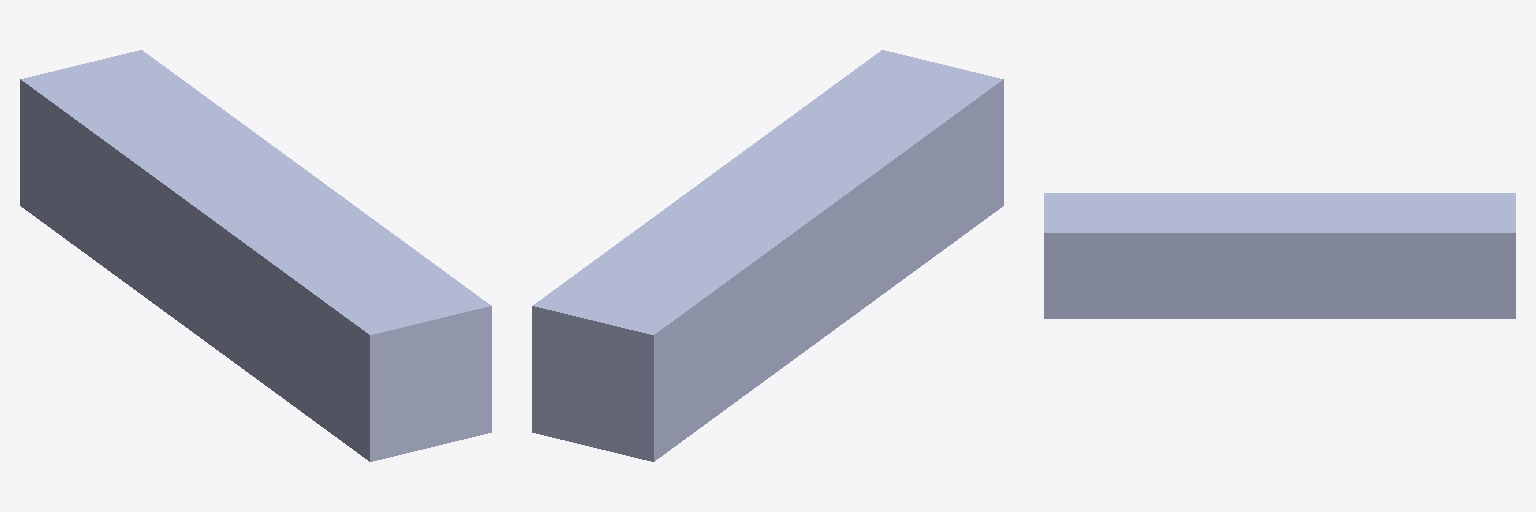
URDF robot description (schunk_gripper_jpg_p_160):
<?xml version="1.0" ?>
<!-- =================================================================================== -->
<!-- |    This document was autogenerated by xacro from [local-path]/projects/personal_ws/src/schunk_gripper_jpg_p_160/schunk_gripper_jpg_p_160_description/urdf/schunk_gripper_jpg_p_160_pybullet.xacro | -->
<!-- |    EDITING THIS FILE BY HAND IS NOT RECOMMENDED                                 | -->
<!-- =================================================================================== -->
<!-- It is required to pass the args: robot_name-->
<robot name="schunk_gripper_jpg_p_160">
  <link concave="yes" name="base">
    <inertial>
      <origin rpy="0 0 0" xyz="0.00002849 -0.00022471 0.03657638"/>
      <mass value="0.6818"/>
      <inertia ixx="0.00154456" ixy="0.00000154" ixz="0.00000118" iyy="0.00283260" iyz="-0.00000405" izz="0.00195998"/>
    </inertial>
    <visual>
      <origin rpy="0 0 0" xyz="0 0 0"/>
      <geometry>
        <mesh filename="[local-path]/projects/personal_ws/src/schunk_gripper_jpg_p_160/schunk_gripper_jpg_p_160_description/meshes/SCHUNK_parallel_gripper_base.STL"/>
      </geometry>
      <material name="">
        <color rgba="0.79216 0.81961 0.93333 1"/>
      </material>
    </visual>
    <collision concave="yes">
      <origin rpy="0 0 0" xyz="0 0 0"/>
      <geometry>
        <mesh filename="[local-path]/projects/personal_ws/src/schunk_gripper_jpg_p_160/schunk_gripper_jpg_p_160_description/meshes/SCHUNK_parallel_gripper_base.STL"/>
      </geometry>
    </collision>
  </link>
  <joint name="left_joint" type="prismatic">
    <origin rpy="0 0 0" xyz="0.0006 0 0.0481"/>
    <parent link="base"/>
    <child link="left_slider"/>
    <axis xyz="1 0 0"/>
    <limit effort="1000" lower="0.000" upper="0.017" velocity="1000000"/>
  </joint>
  <link concave="yes" name="left_slider">
    <inertial>
      <origin rpy="0 0 0" xyz="0.03936113 -0.00000000 0.01237203"/>
      <mass value="0.070"/>
      <inertia ixx="0.00002269" ixy="0.00000000" ixz="0.00003426" iyy="0.00015861" iyz="-0.00000000" izz="0.00015142"/>
    </inertial>
    <visual>
      <origin rpy="0 0 0" xyz="0 0 0"/>
      <geometry>
        <mesh filename="[local-path]/projects/personal_ws/src/schunk_gripper_jpg_p_160/schunk_gripper_jpg_p_160_description/meshes/SCHUNK_parallel_gripper_finger_slider.STL"/>
      </geometry>
      <material name="">
        <color rgba="0.79216 0.81961 0.93333 1"/>
      </material>
    </visual>
    <collision concave="yes">
      <origin rpy="0 0 0" xyz="0 0 0"/>
      <geometry>
        <mesh filename="[local-path]/projects/personal_ws/src/schunk_gripper_jpg_p_160/schunk_gripper_jpg_p_160_description/meshes/SCHUNK_parallel_gripper_finger_slider.STL"/>
      </geometry>
    </collision>
  </link>
  <joint name="right_joint" type="prismatic">
    <origin rpy="0 0 3.14159" xyz="-0.0006 0 0.0481"/>
    <parent link="base"/>
    <child link="right_slider"/>
    <axis xyz="1 0 0"/>
    <limit effort="100000" lower="0.000" upper="0.017" velocity="1000000"/>
    <mimic joint="left_joint" multiplier="1" offset="0"/>
  </joint>
  <link concave="yes" name="right_slider">
    <inertial>
      <origin rpy="0 0 0" xyz="0.03936113 -0.00000000 0.01237203"/>
      <mass value="0.070"/>
      <inertia ixx="0.00002269" ixy="0.00000000" ixz="0.00003426" iyy="0.00015861" iyz="-0.00000000" izz="0.00015142"/>
    </inertial>
    <visual>
      <origin rpy="0 0 0" xyz="0 0 0"/>
      <geometry>
        <mesh filename="[local-path]/projects/personal_ws/src/schunk_gripper_jpg_p_160/schunk_gripper_jpg_p_160_description/meshes/SCHUNK_parallel_gripper_finger_slider.STL"/>
      </geometry>
      <material name="">
        <color rgba="0.79216 0.81961 0.93333 1"/>
      </material>
    </visual>
    <collision concave="yes">
      <origin rpy="0 0 0" xyz="0 0 0"/>
      <geometry>
        <mesh filename="[local-path]/projects/personal_ws/src/schunk_gripper_jpg_p_160/schunk_gripper_jpg_p_160_description/meshes/SCHUNK_parallel_gripper_finger_slider.STL"/>
      </geometry>
    </collision>
  </link>
  <joint name="left_finger_joint" type="fixed">
    <origin rpy="0 0 3.14159" xyz="0.0285 0 0.0289"/>
    <parent link="left_slider"/>
    <child link="left_finger"/>
    <axis xyz="0 0 0"/>
  </joint>
  <link concave="yes" name="left_finger">
    <inertial>
      <origin rpy="0 0 0" xyz="-0.01665438 -0.00000438 0.05348249"/>
      <mass value="0.10"/>
      <inertia ixx="0.00041666" ixy="-0.00000001" ixz="-0.00005970" iyy="0.00047996" iyz="-0.00000004" izz="0.00007666"/>
    </inertial>
    <visual>
      <origin rpy="0 0 0" xyz="0 0 0"/>
      <geometry>
        <mesh filename="[local-path]/projects/personal_ws/src/schunk_gripper_jpg_p_160/schunk_gripper_jpg_p_160_description/meshes/Finger.STL"/>
      </geometry>
      <material name="">
        <color rgba="0.79216 0.81961 0.93333 1"/>
      </material>
    </visual>
    <collision concave="yes">
      <origin rpy="0 0 0" xyz="0 0 0"/>
      <geometry>
        <mesh filename="[local-path]/projects/personal_ws/src/schunk_gripper_jpg_p_160/schunk_gripper_jpg_p_160_description/meshes/Finger.STL"/>
      </geometry>
    </collision>
  </link>
  <joint name="right_finger_joint" type="fixed">
    <origin rpy="0 0 3.14159" xyz="0.0285 0 0.0289"/>
    <parent link="right_slider"/>
    <child link="right_finger"/>
    <axis xyz="0 0 0"/>
  </joint>
  <link concave="yes" name="right_finger">
    <inertial>
      <origin rpy="0 0 0" xyz="-0.01665438 -0.00000438 0.05348249"/>
      <mass value="0.10"/>
      <inertia ixx="0.00041666" ixy="-0.00000001" ixz="-0.00005970" iyy="0.00047996" iyz="-0.00000004" izz="0.00007666"/>
    </inertial>
    <visual>
      <origin rpy="0 0 0" xyz="0 0 0"/>
      <geometry>
        <mesh filename="[local-path]/projects/personal_ws/src/schunk_gripper_jpg_p_160/schunk_gripper_jpg_p_160_description/meshes/Finger.STL"/>
      </geometry>
      <material name="">
        <color rgba="0.79216 0.81961 0.93333 1"/>
      </material>
    </visual>
    <collision concave="yes">
      <origin rpy="0 0 0" xyz="0 0 0"/>
      <geometry>
        <mesh filename="[local-path]/projects/personal_ws/src/schunk_gripper_jpg_p_160/schunk_gripper_jpg_p_160_description/meshes/Finger.STL"/>
      </geometry>
    </collision>
  </link>
  <transmission name="left_joint_trans">
    <type>transmission_interface/SimpleTransmission</type>
    <joint name="left_joint_circle">
      <hardwareInterface>hardware_interface/EffortJointInterface</hardwareInterface>
    </joint>
    <actuator name="left_joint_motor">
      <mechanicalReduction>1</mechanicalReduction>
    </actuator>
  </transmission>
  <transmission name="right_joint_trans">
    <type>transmission_interface/SimpleTransmission</type>
    <joint name="right_joint_circle">
      <hardwareInterface>hardware_interface/EffortJointInterface</hardwareInterface>
    </joint>
    <actuator name="right_joint_motor">
      <mechanicalReduction>1</mechanicalReduction>
    </actuator>
  </transmission>
  <joint name="left_joint_circle" type="revolute">
    <origin rpy="0 0.0 0" xyz="0.0 0.0 0.0"/>
    <parent link="base"/>
    <child link="left_circle"/>
    <axis xyz="0 1 0"/>
    <limit effort="10000" lower="-100" upper="100" velocity="1000"/>
  </joint>
  <link name="left_circle">
    <inertial>
      <origin rpy="0 0 0" xyz="0.0 -0.0 0.0"/>
      <mass value="0.0001"/>
      <inertia ixx="0.000001" ixy="0.0" ixz="0.0" iyy="0.000001" iyz="-0.0" izz="0.000001"/>
    </inertial>
  </link>
  <joint name="right_joint_circle" type="revolute">
    <origin rpy="0 0.0 0" xyz="0.0 0.0 0.0"/>
    <parent link="base"/>
    <child link="right_circle"/>
    <axis xyz="0 1 0"/>
    <limit effort="10000" lower="-100" upper="100" velocity="1000"/>
  </joint>
  <link name="right_circle">
    <inertial>
      <origin rpy="0 0 0" xyz="0.0 -0.0 0.0"/>
      <mass value="0.0001"/>
      <inertia ixx="0.000001" ixy="0.0" ixz="0.0" iyy="0.000001" iyz="-0.0" izz="0.000001"/>
    </inertial>
  </link>
  <joint name="middle_left_joint_circle" type="prismatic">
    <origin rpy="0 0 0" xyz="0 0 0"/>
    <parent link="left_circle"/>
    <child link="middle_left_circle"/>
    <axis xyz="0 0 1"/>
    <limit effort="10000" lower="-1" upper="1" velocity="1000"/>
  </joint>
  <link name="middle_left_circle">
    <inertial>
      <origin rpy="0 0 0" xyz="0.0 -0.0 0.0"/>
      <mass value="0.0001"/>
      <inertia ixx="0.000001" ixy="0.0" ixz="0.0" iyy="0.000001" iyz="-0.0" izz="0.000001"/>
    </inertial>
  </link>
  <joint name="end_left_joint_circle" type="revolute">
    <origin rpy="0 0 0" xyz="0.0 0.0 0.0"/>
    <parent link="middle_left_circle"/>
    <child link="end_left_circle"/>
    <axis xyz="0 1 0"/>
    <limit effort="1000" lower="-200" upper="200" velocity="1000"/>
  </joint>
  <link name="end_left_circle">
    <inertial>
      <origin rpy="0 0 0" xyz="0.0 -0.0 0.0"/>
      <mass value="0.0001"/>
      <inertia ixx="0.000001" ixy="0.0" ixz="0.0" iyy="0.000001" iyz="-0.0" izz="0.000001"/>
    </inertial>
    <visual>
      <origin rpy="0 0 0" xyz="0 0 0"/>
      <geometry>
        <box size="0.01 0.05 0.01"/>
      </geometry>
      <material name="">
        <color rgba="0.79216 0.81961 0.93333 1"/>
      </material>
    </visual>
  </link>
  <joint name="middle_right_joint_circle" type="prismatic">
    <origin rpy="0 0 0" xyz="0 0 0"/>
    <parent link="right_circle"/>
    <child link="middle_right_circle"/>
    <axis xyz="0 0 1"/>
    <limit effort="10000" lower="-1" upper="1" velocity="1000"/>
  </joint>
  <link name="middle_right_circle">
    <inertial>
      <origin rpy="0 0 0" xyz="0.0 -0.0 0.0"/>
      <mass value="0.0001"/>
      <inertia ixx="0.000001" ixy="0.0" ixz="0.0" iyy="0.000001" iyz="-0.0" izz="0.000001"/>
    </inertial>
  </link>
  <joint name="end_right_joint_circle" type="revolute">
    <origin rpy="0 0 0" xyz="0.0 0.0 0.0"/>
    <parent link="middle_right_circle"/>
    <child link="end_right_circle"/>
    <axis xyz="0 1 0"/>
    <limit effort="1000" lower="-200" upper="200" velocity="1000"/>
  </joint>
  <link name="end_right_circle">
    <inertial>
      <origin rpy="0 0 0" xyz="0.0 -0.0 0.0"/>
      <mass value="0.0001"/>
      <inertia ixx="0.000001" ixy="0.0" ixz="0.0" iyy="0.000001" iyz="-0.0" izz="0.000001"/>
    </inertial>
    <visual>
      <origin rpy="0 0 0" xyz="0 0 0"/>
      <geometry>
        <box size="0.01 0.05 0.01"/>
      </geometry>
      <material name="">
        <color rgba="0.79216 0.81961 0.93333 1"/>
      </material>
    </visual>
  </link>
  <joint name="shadow_left_joint" type="fixed">
    <origin rpy="0 0 0" xyz="0 0 0"/>
    <parent link="left_slider"/>
    <child link="shadow_left_slider"/>
  </joint>
  <link name="shadow_left_slider">
    <inertial>
      <origin rpy="0 0 0" xyz="0 0 0"/>
      <mass value="0.00001"/>
      <inertia ixx="0.00001" ixy="0.0" ixz="0.0" iyy="0.00001" iyz="0.0" izz="0.00001"/>
    </inertial>
  </link>
  <joint name="shadow_right_joint" type="fixed">
    <origin rpy="0 0 0" xyz="0 0 0"/>
    <parent link="right_slider"/>
    <child link="shadow_right_slider"/>
  </joint>
  <link name="shadow_right_slider">
    <inertial>
      <origin rpy="0 0 0" xyz="0 0 0"/>
      <mass value="0.00001"/>
      <inertia ixx="0.00001" ixy="0.0" ixz="0.0" iyy="0.00001" iyz="0.0" izz="0.00001"/>
    </inertial>
  </link>
</robot>

--- Render facts (derived) ---
The picture shows the robot from 3 angles, left to right: view 1: azimuth 30°, elevation 25°; view 2: azimuth 150°, elevation 25°; view 3: azimuth 270°, elevation 25°; orthographic projection.
Robot: schunk_gripper_jpg_p_160 — 13 links, 12 joints (4 revolute, 4 prismatic, 4 fixed); root link base; default pose: all joints at 0.
Links seen in each view (by area): view 1: end_left_circle; view 2: end_left_circle; view 3: end_left_circle.
Boxes of the visible links, x1=… form: end_left_circle: x1=20, y1=50, x2=491, y2=461; end_left_circle: x1=532, y1=50, x2=1003, y2=461; end_left_circle: x1=1044, y1=193, x2=1515, y2=318.
Size in the robot's own frame: 0.01 by 0.05 by 0.01 metres.
Geometry: only primitive shapes (box / cylinder / sphere) drawn; not drawn: 5 mesh visuals (reference in a form the renderer does not follow).